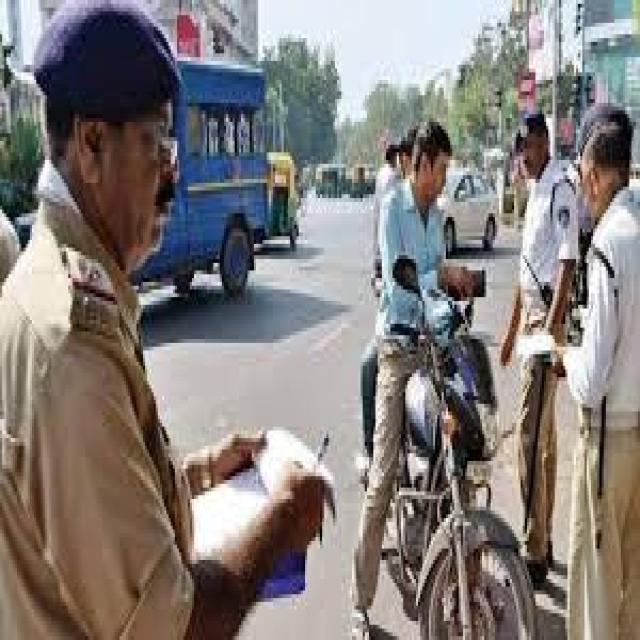motorcycle ahead at: (363, 123, 539, 640)
person ahead at: (2, 0, 337, 640)
